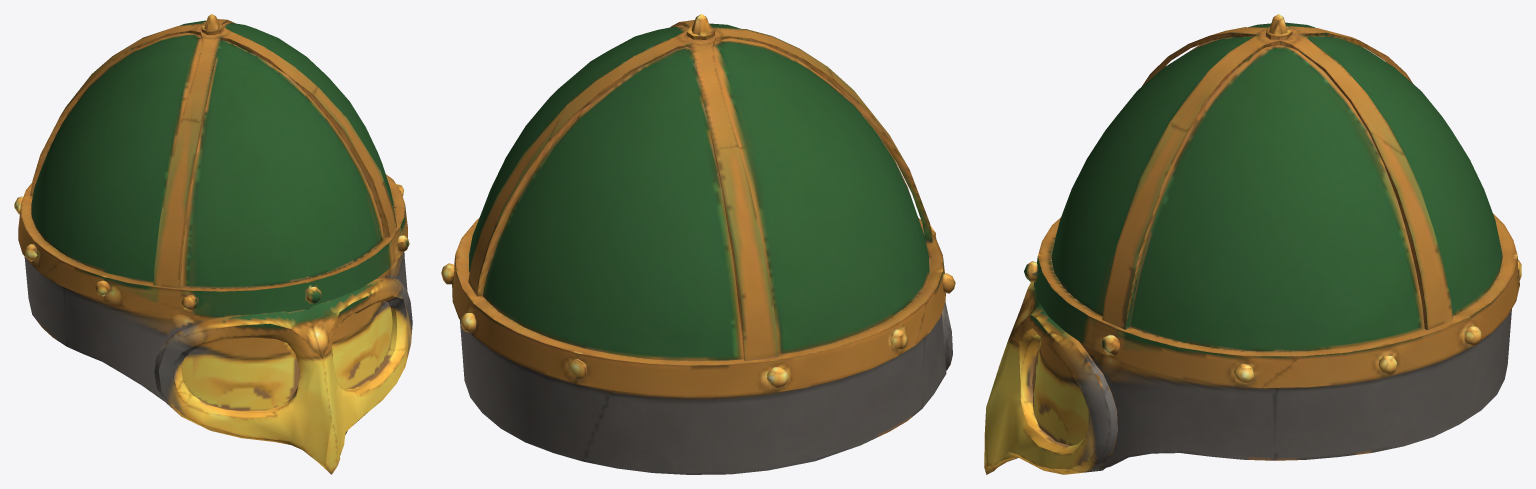
Rendered from item_mm9_10236.glb.
3 renders of one model, left to right at view 1: azimuth 30°, elevation 25°; view 2: azimuth 150°, elevation 25°; view 3: azimuth 270°, elevation 25°, orthographic. The views are drawn at different scales.
Visible parts, largest first — view 1: d10236; view 2: d10236; view 3: d10236.
Part boxes in pixels (box(x1,y1,x2,y2)): d10236: box(14, 14, 412, 474); d10236: box(441, 14, 955, 474); d10236: box(984, 14, 1521, 474).
Size of the model in its own units: 0.9292 by 0.946 by 1.
1 material, 1 textured.
